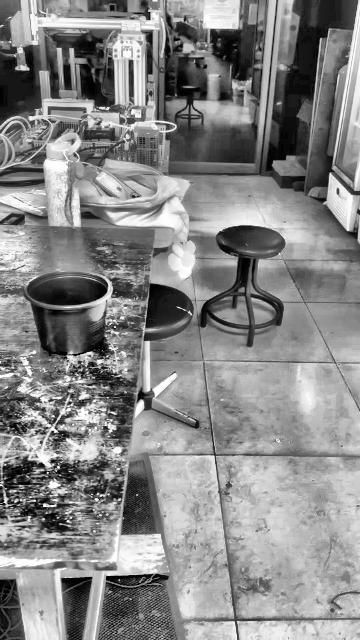pot: (25, 271, 111, 354)
